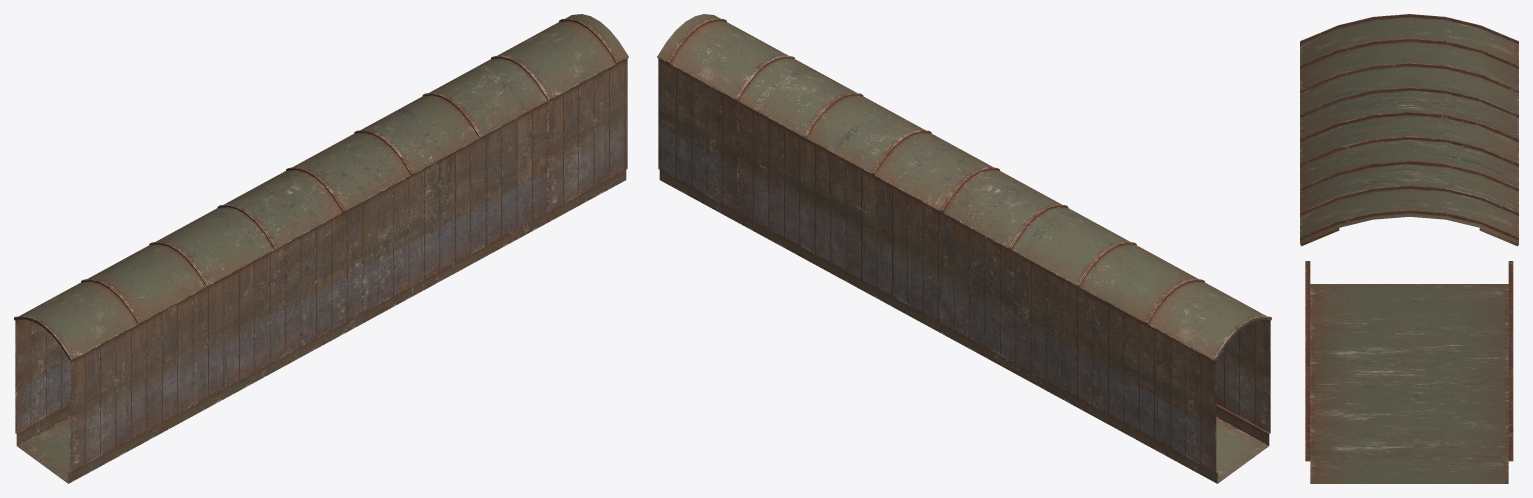
Rendered from Conveyor01c.fbx.
The picture shows the model from 3 angles, left to right: view 1: azimuth 30°, elevation 25°; view 2: azimuth 150°, elevation 25°; view 3: azimuth 270°, elevation 25°; orthographic projection. The views are drawn at different scales.
Parts seen in each view (by area): view 1: Conveyor01c; view 2: Conveyor01c; view 3: Conveyor01c.
Boxes of the visible parts, x1,y1,x2,y2 form: Conveyor01c: (14,14,628,483); Conveyor01c: (657,14,1271,483); Conveyor01c: (1300,14,1518,483).
Bounding box in the file's own units: 1050 × 553 × 186.
